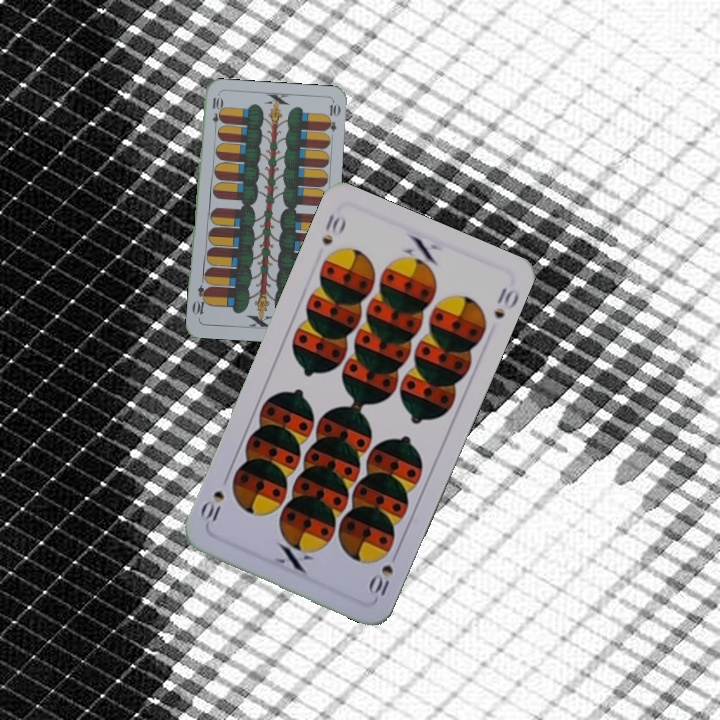E10: (208, 93, 223, 134)
S10: (364, 546, 402, 602), (318, 210, 349, 248)
